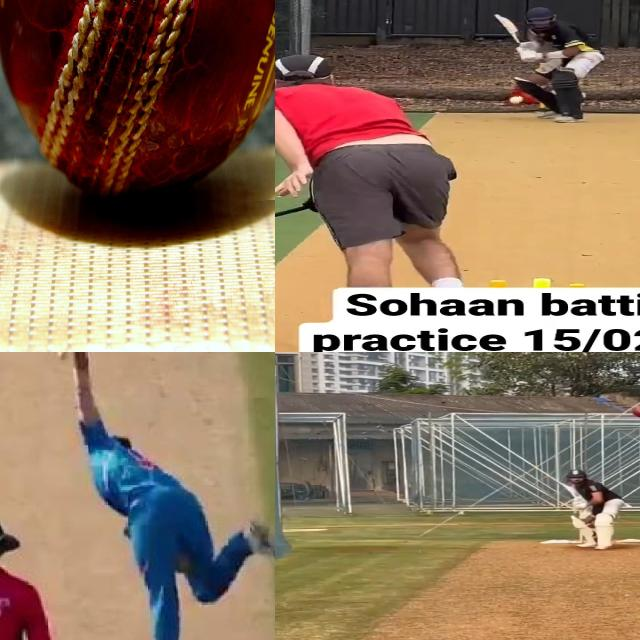Cricket ball: (0, 0, 275, 214), (629, 403, 640, 419), (510, 96, 526, 105), (55, 352, 68, 363)
